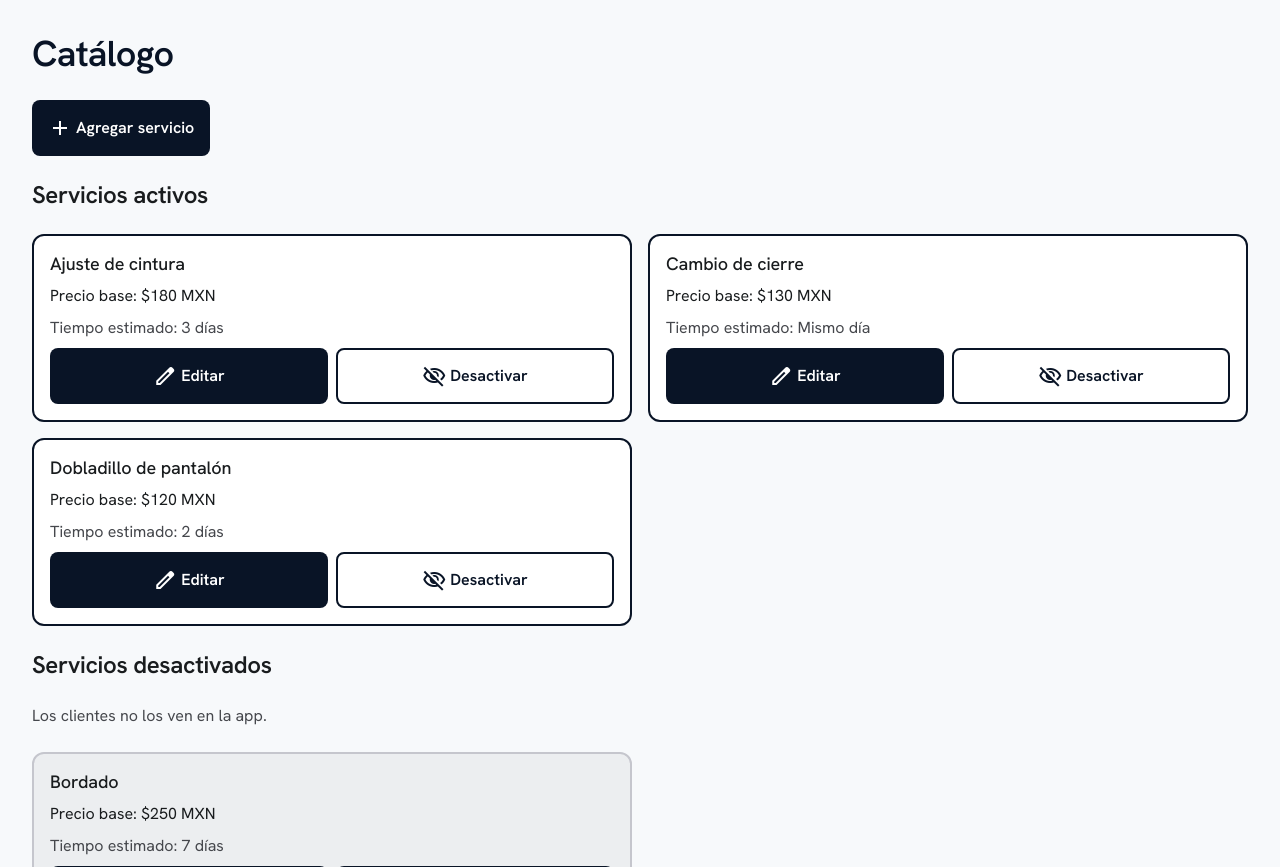
it: Price quoted in store › adds a service whose price is quoted in store
Click the button "Agregar servicio": click(121, 128) [32, 100, 210, 156]
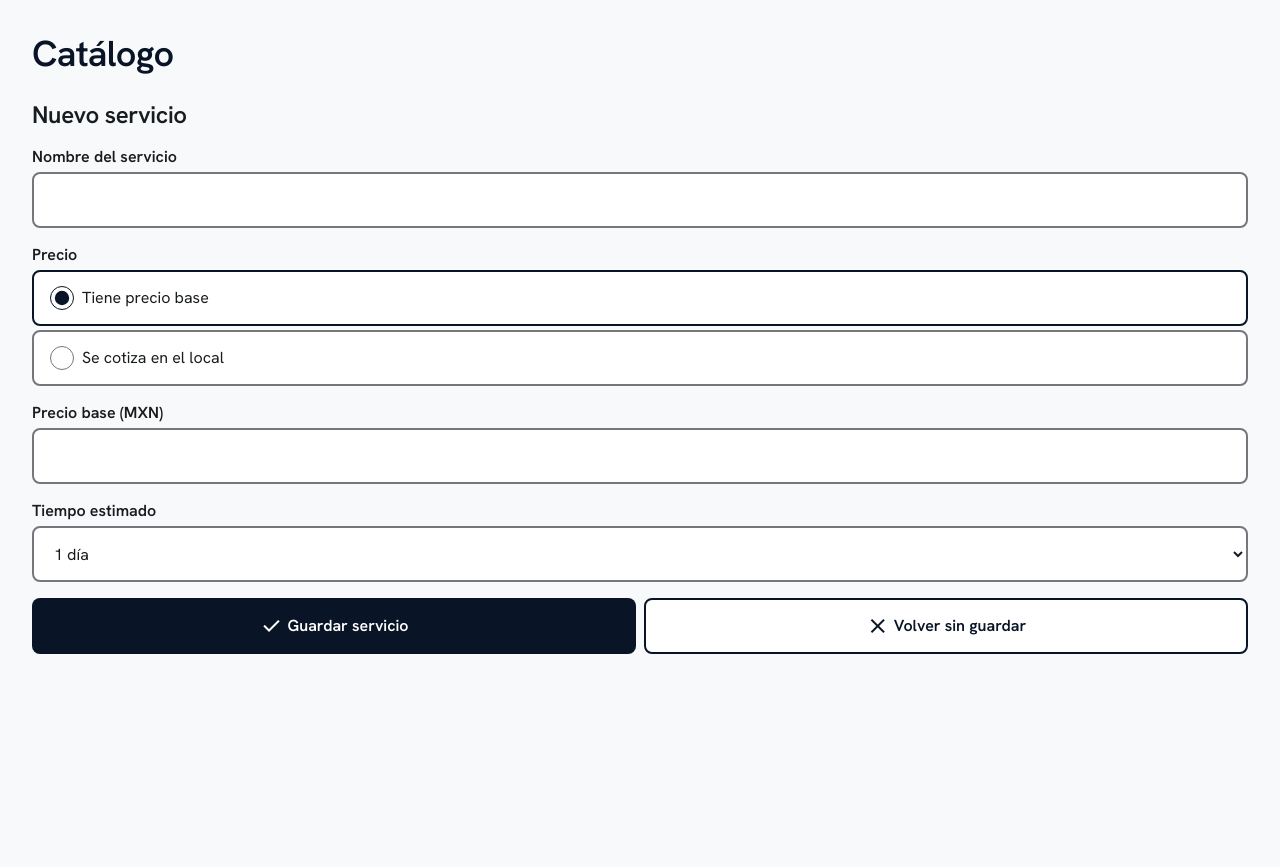
In the field labelled "Nombre del servicio": (640, 200) [32, 172, 1248, 228], type "Vestido de novia"
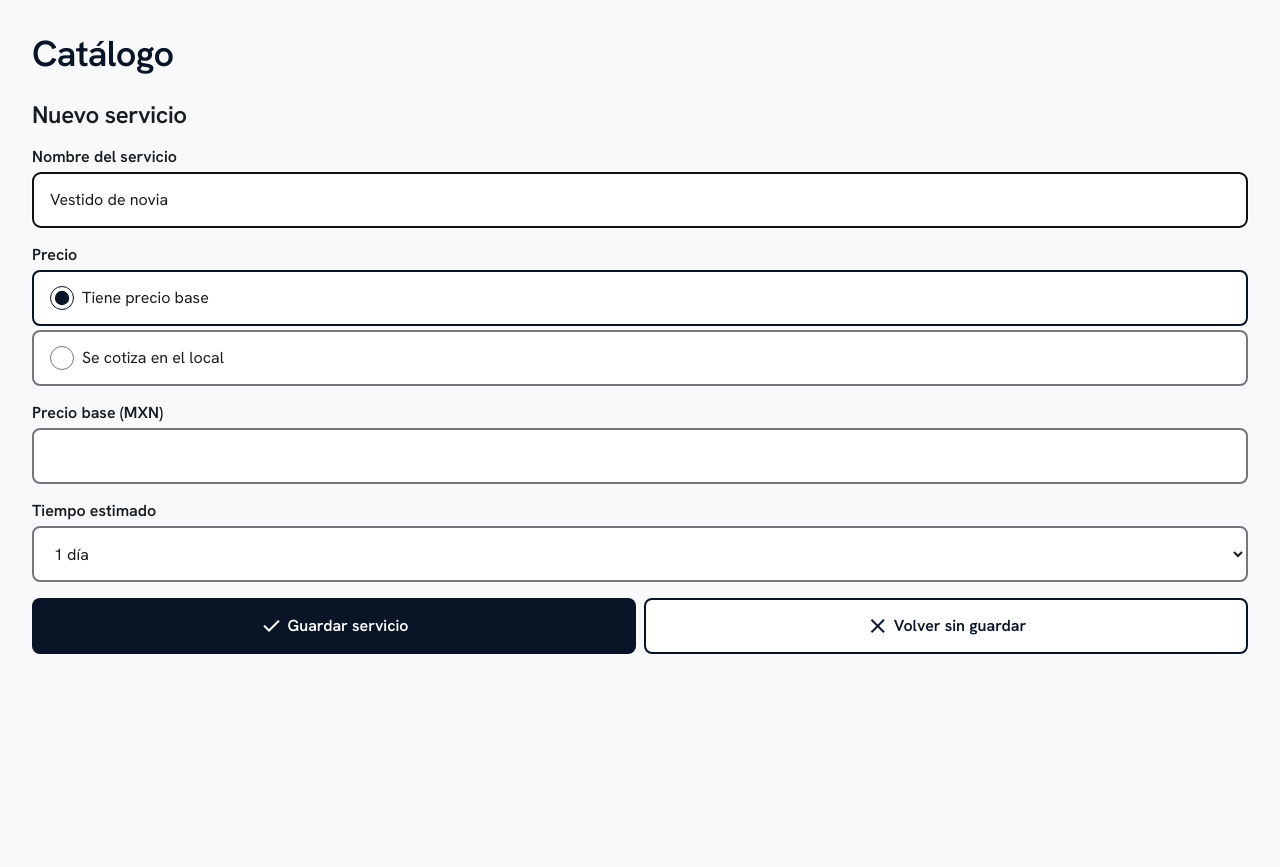
Click the radio button labelled "Se cotiza en el local": click(62, 358) [50, 346, 74, 370]
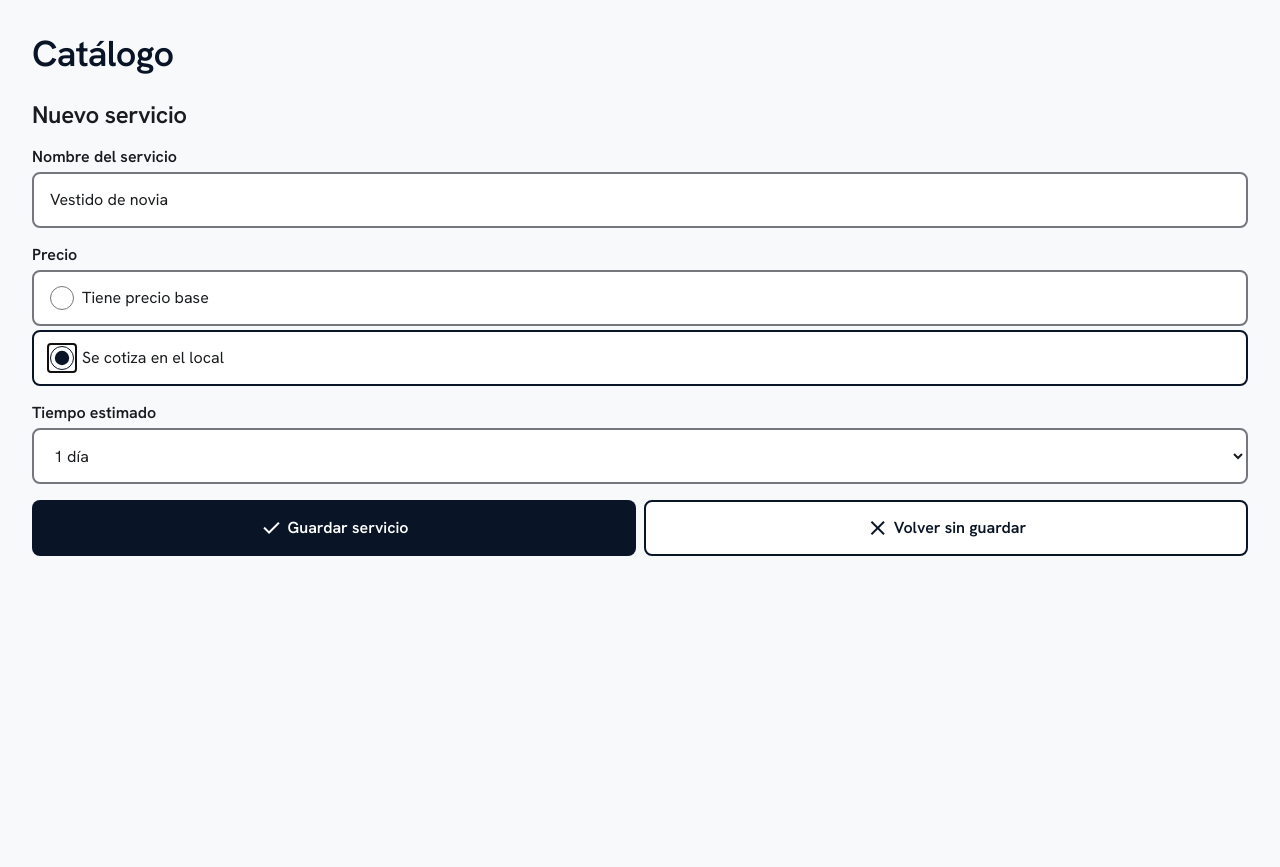
Expected: the label labelled "Precio base (MXN)" is gone
Click the button "Guardar servicio": click(334, 528) [32, 500, 636, 556]
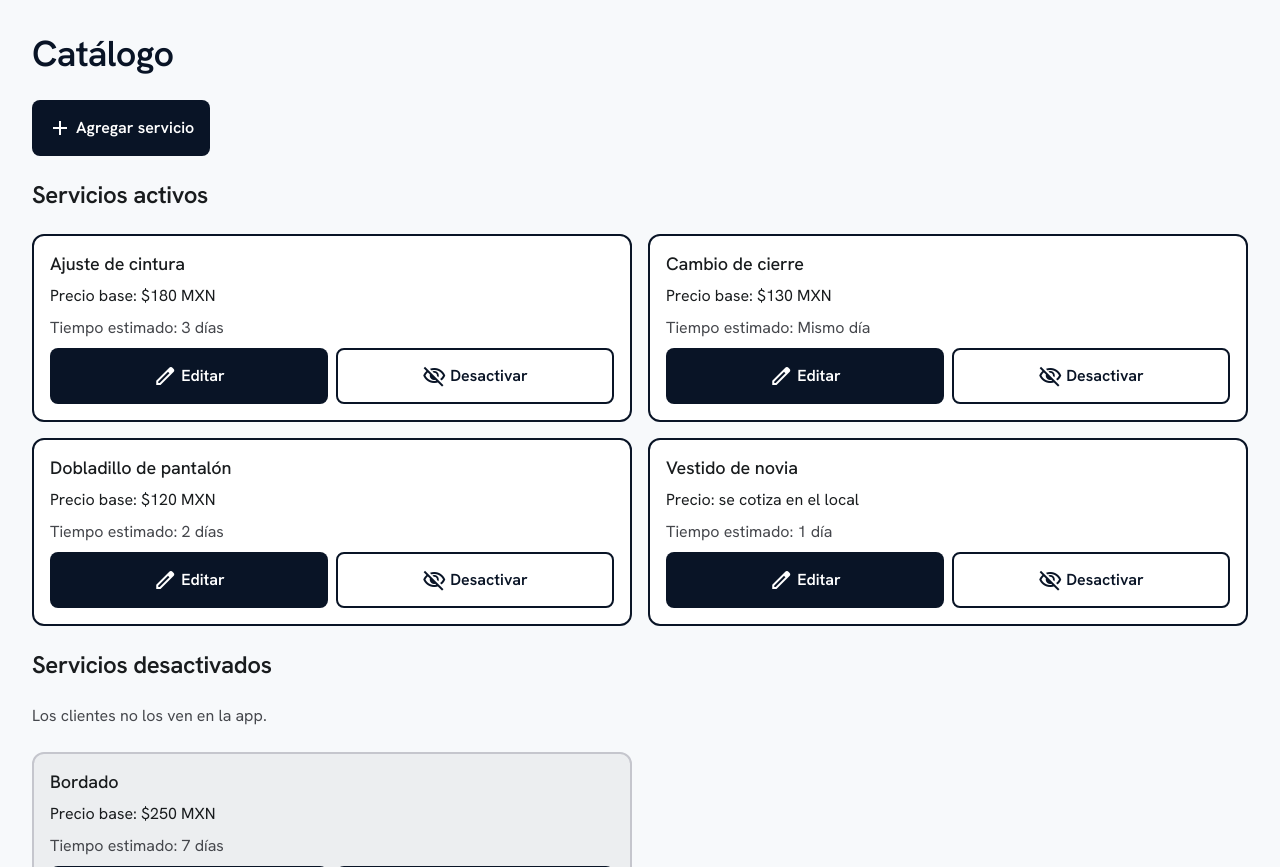
Expected: the list item that starts with "Vestido de novia" does not show "MXN", [648, 438, 1248, 626]
Expected: the list item that starts with "Vestido de novia" shows "Precio: se cotiza en el local", [666, 489, 859, 510]
